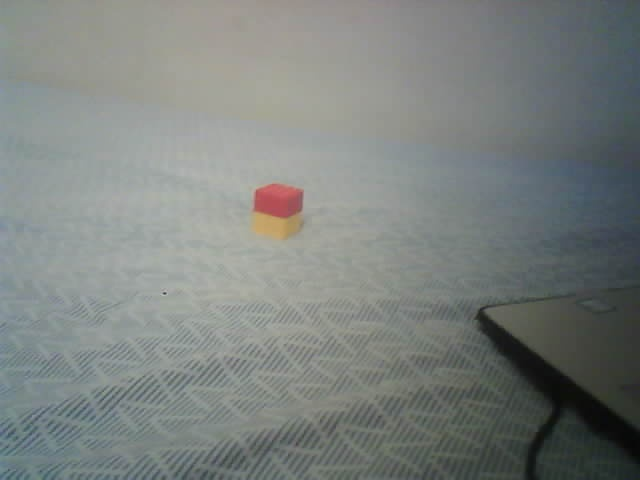lego: (250, 182, 304, 240)
